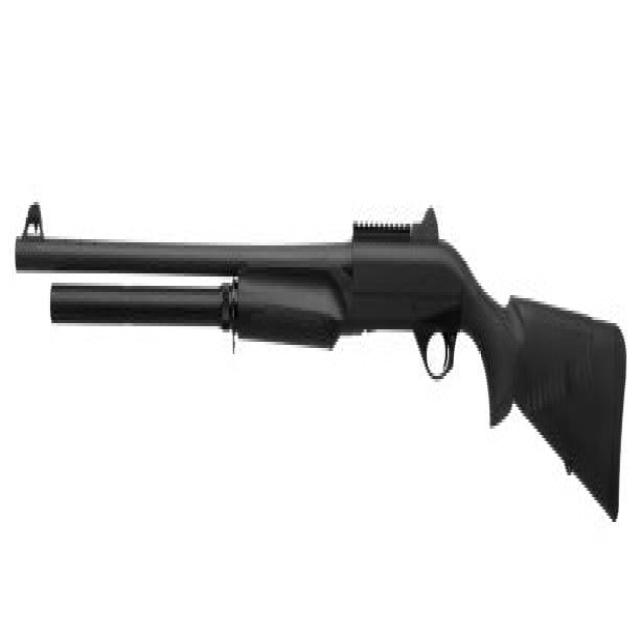rifle: (6, 192, 634, 536)
